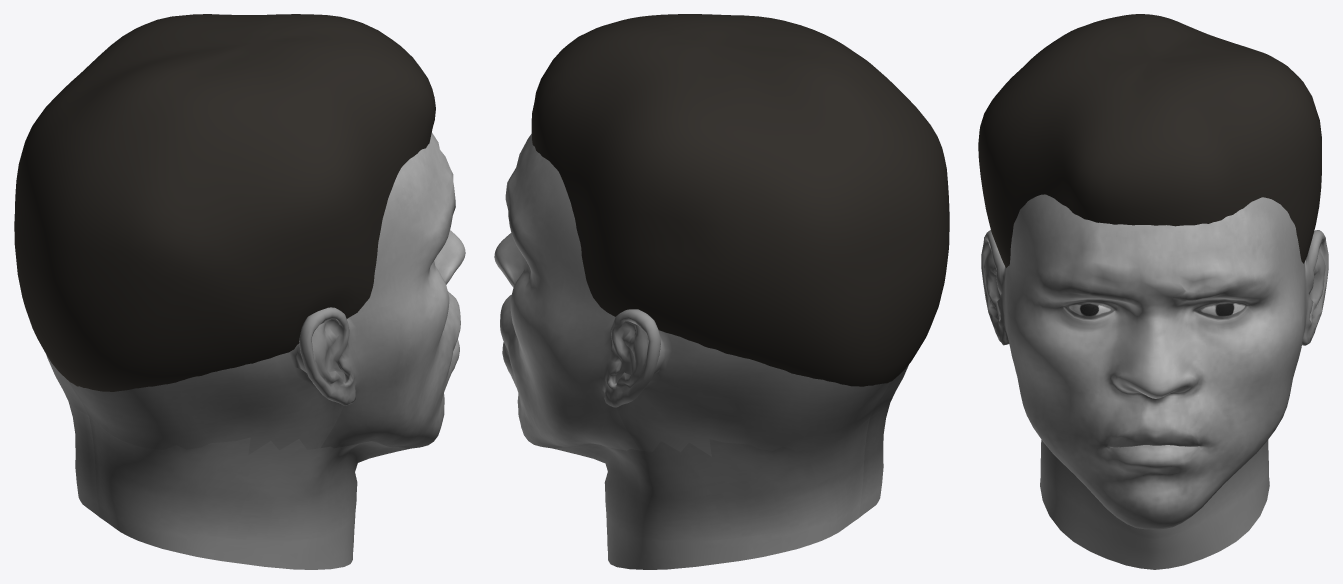
The model's file is ali.glb.
3 renders of one model, left to right at view 1: azimuth 30°, elevation 25°; view 2: azimuth 150°, elevation 25°; view 3: azimuth 270°, elevation 25°, orthographic. The views are drawn at different scales.
Parts seen in each view (by area): view 1: head; view 2: head; view 3: head.
Part boxes in pixels (x1,y1,x2,y2): head: (14,14,465,569); head: (494,14,949,569); head: (978,14,1328,569).
Size of the model in its own units: 0.3275 by 0.3802 by 0.2553.
2 materials, 2 textured.
